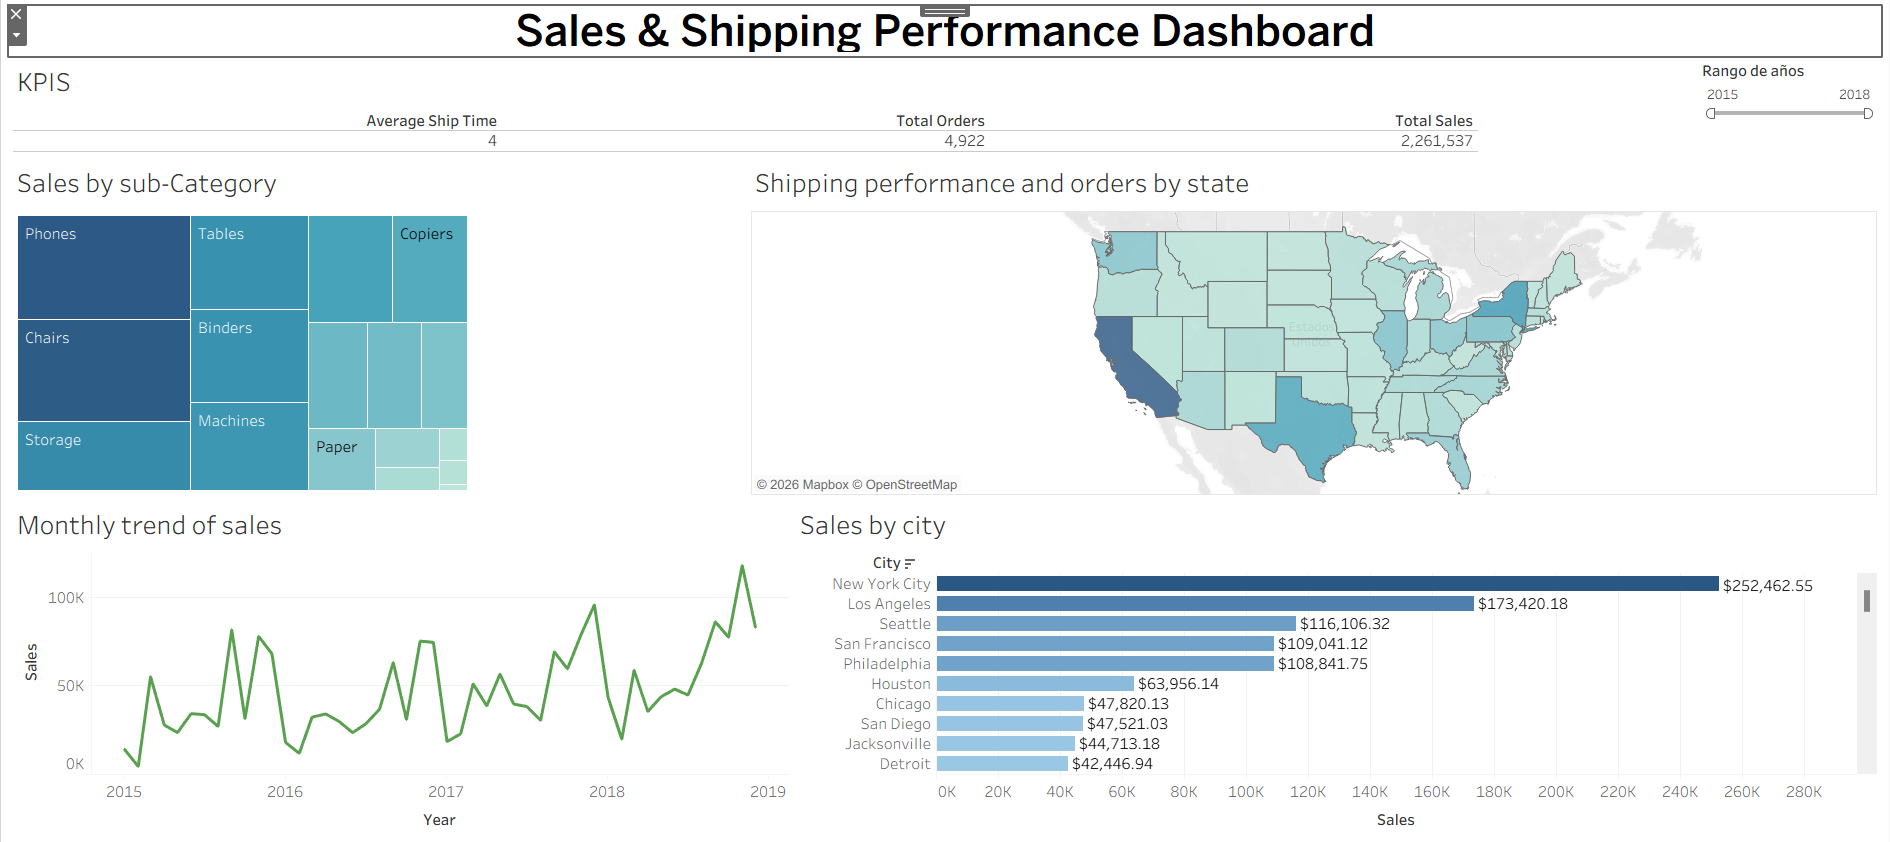

This screenshot's page, from the dashboard's own definition file:
{"tool":"tableau","page":{"name":"Sales & Shipping Performance Dashboard","canvas":[1000,1000],"units":"permille","ordinal":0},"visuals":[{"type":"text","box":[4.8,9.4,990.3,59.3]},{"type":"worksheet","title":"KPIS","mark":"Automatic","box":[4.8,68.7,893.8,118.1]},{"type":"filter","title":"Monthly trend of orders","param":"[federated.14ka60j0knp9md1et295g1jubbwz].[tyr:Order Date:qk]","box":[898.6,68.7,96.6,118.1]},{"type":"worksheet","title":"Sales by sub-Category","mark":"Automatic","box":[4.8,186.8,390.6,401.9]},{"type":"worksheet","title":"Shipping performance and orders by state","mark":"Multipolygon","box":[395.4,186.8,599.8,401.9]},{"type":"worksheet","title":"Monthly trend of orders","mark":"Automatic","rows":["Sales"],"cols":["Order Date"],"box":[4.8,588.7,472.5,401.9]},{"type":"worksheet","title":"Sales by city","mark":"Automatic","rows":["City"],"cols":["Sales"],"box":[477.4,588.7,517.8,401.9]}]}

Visuals, with their boxes on the dashboard's canvas, which has no fixed pixel size, in thousandths of its width and height (x1, y1, x2, y2). These are canvas units, not pixel positions in the 1890x842 screenshot, which may show the page scaled, cropped or inside an application window:
text: [5, 9, 995, 69]
"KPIS" worksheet: [5, 69, 899, 187]
"Monthly trend of orders" filter: [899, 69, 995, 187]
"Sales by sub-Category" worksheet: [5, 187, 395, 589]
"Shipping performance and orders by state" worksheet (Multipolygon marks): [395, 187, 995, 589]
"Monthly trend of orders" worksheet: [5, 589, 477, 991]
"Sales by city" worksheet: [477, 589, 995, 991]
